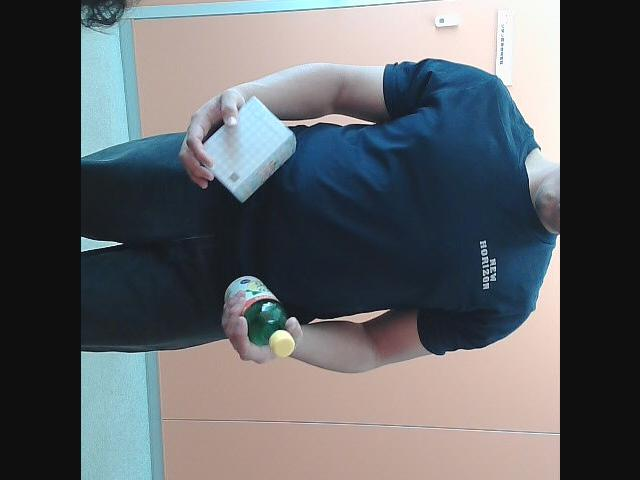Blind_box: (193, 98, 299, 202)
Lemon_sapporo: (216, 272, 302, 360)
